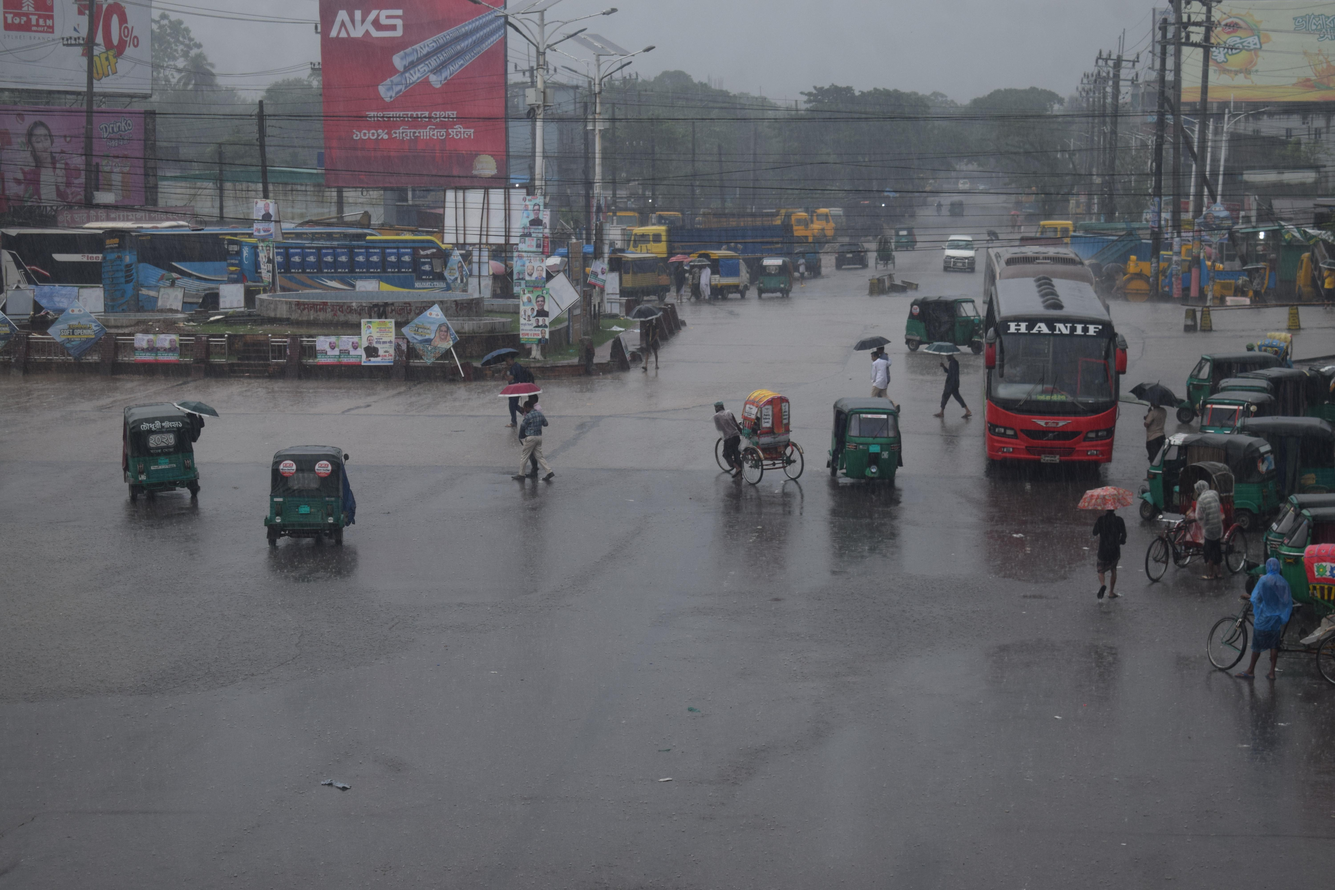Bus: (965, 222, 1139, 505), (75, 190, 324, 346), (0, 200, 204, 366), (235, 221, 485, 342)
Car: (1179, 517, 1335, 720), (688, 367, 819, 519), (1125, 467, 1257, 598), (936, 216, 986, 292)
Truck: (620, 211, 816, 266)
